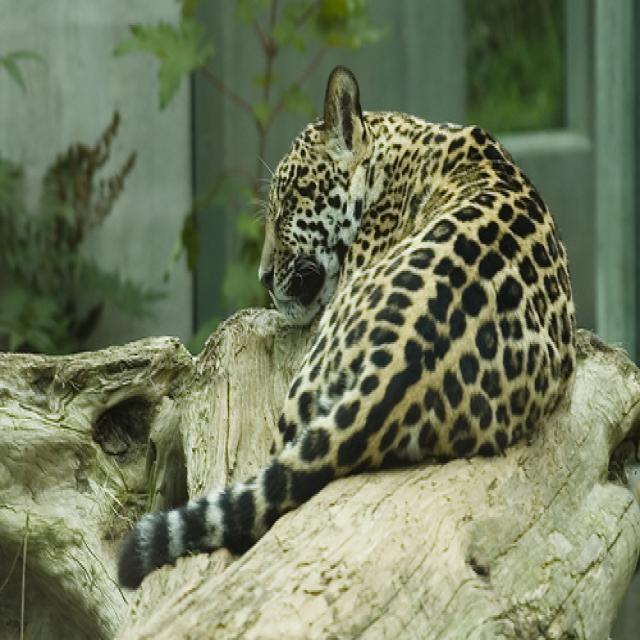Leopard: (114, 58, 578, 594)
